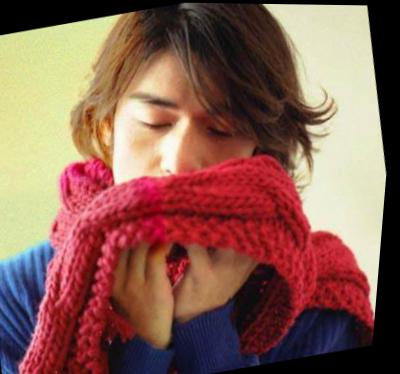WRONG: (97, 61, 286, 250)
